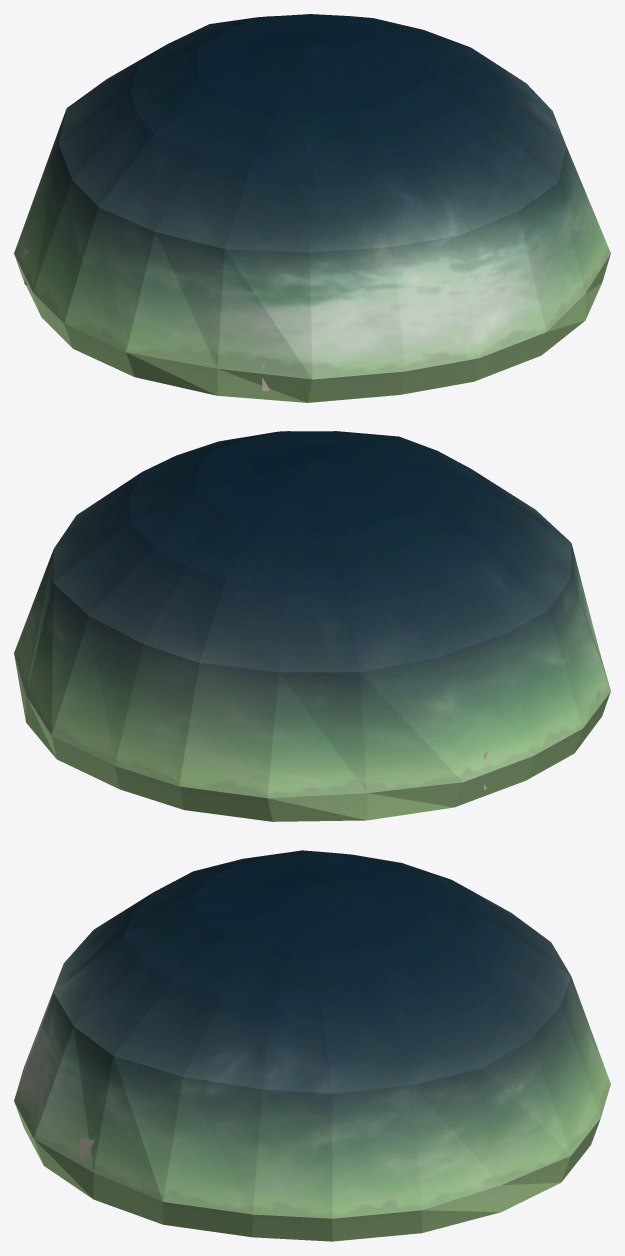
Rendered from C4M1SKY.obj.
3 renders of one model, top to bottom at view 1: azimuth 30°, elevation 25°; view 2: azimuth 150°, elevation 25°; view 3: azimuth 270°, elevation 25°, orthographic.
Visible parts, largest first — view 1: Node 0; view 2: Node 0; view 3: Node 0.
Boxes of the visible parts, x1,y1,x2,y2 form: Node 0: [14, 14, 610, 402]; Node 0: [14, 431, 610, 821]; Node 0: [14, 850, 610, 1241].
Bounding box in the file's own units: 0.6 × 0.27 × 0.6.
5 materials, 5 textured.
